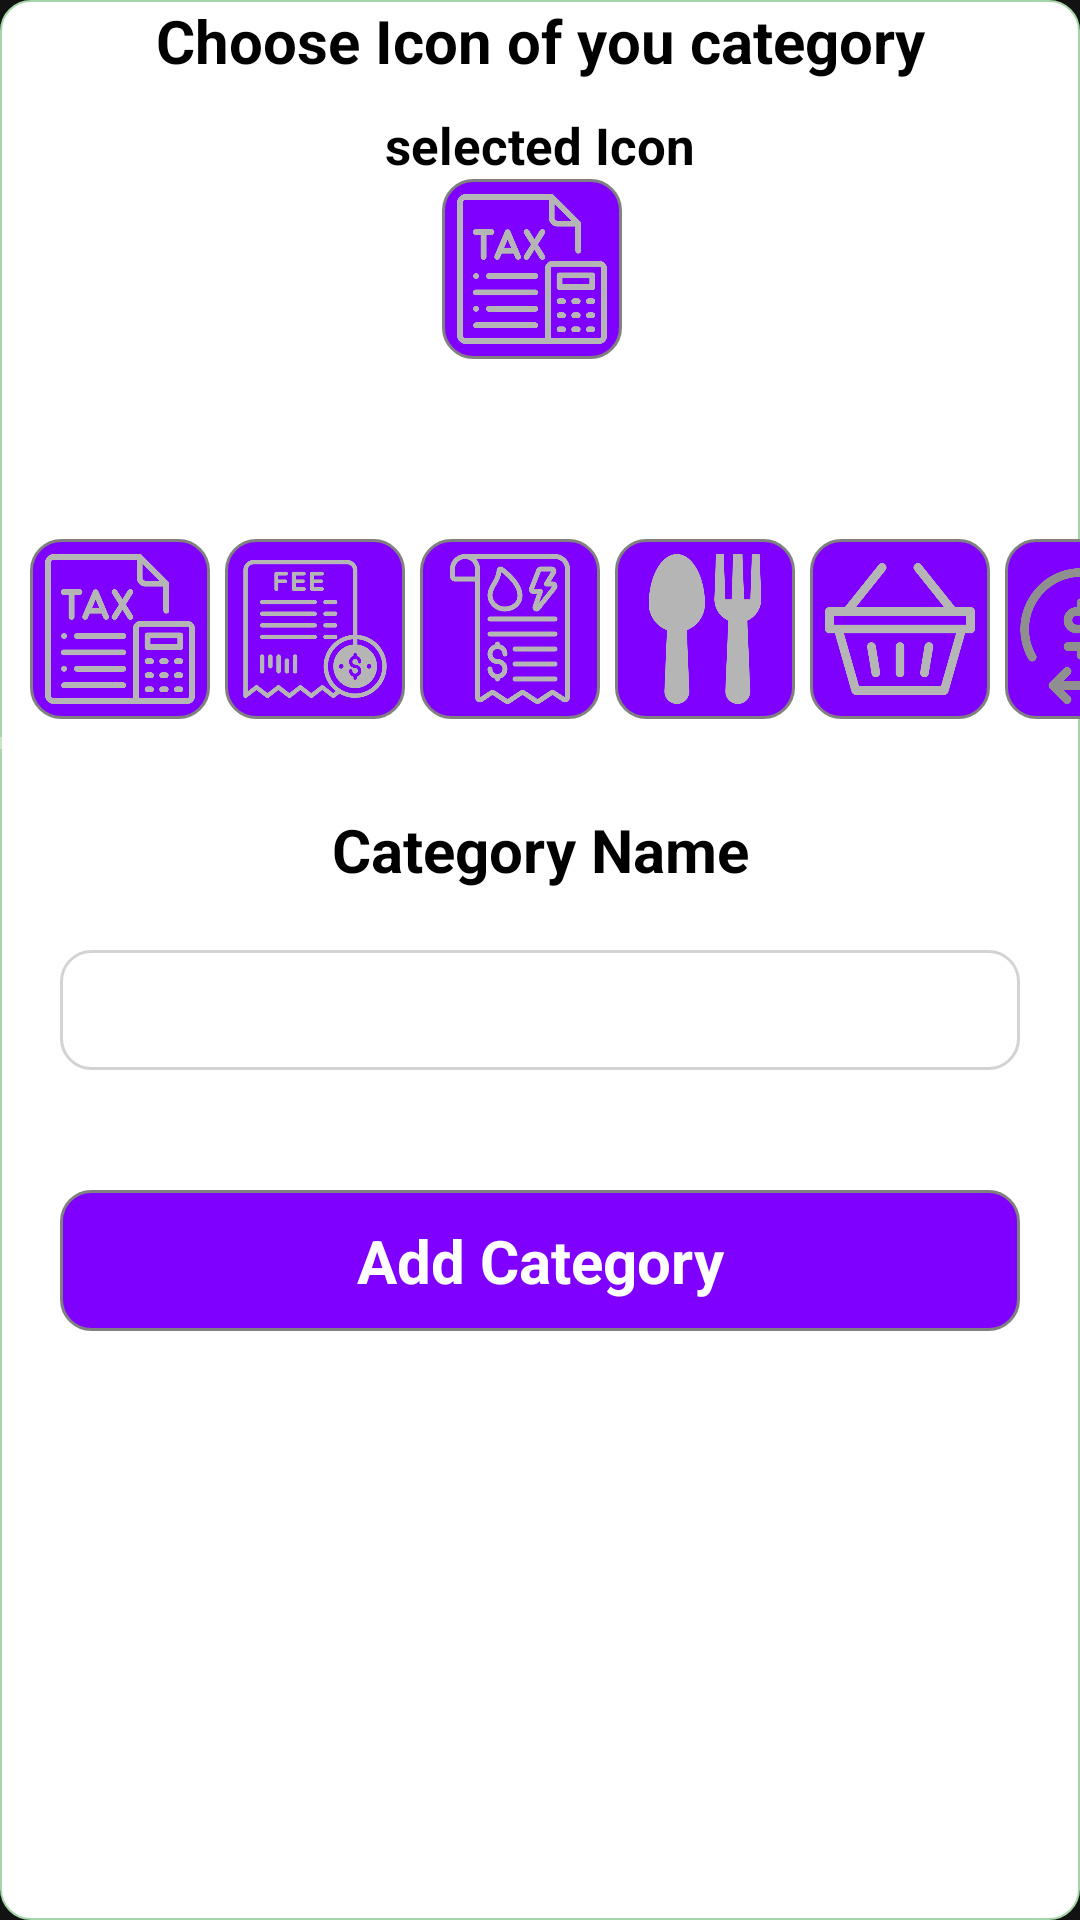

Icons on this 1080 x 1920 Android screen, each with the point to tap as (x,y):
bill: (510,629)
cutlery: (705,629)
receipt: (315,629)
shopping basket: (900,629)
